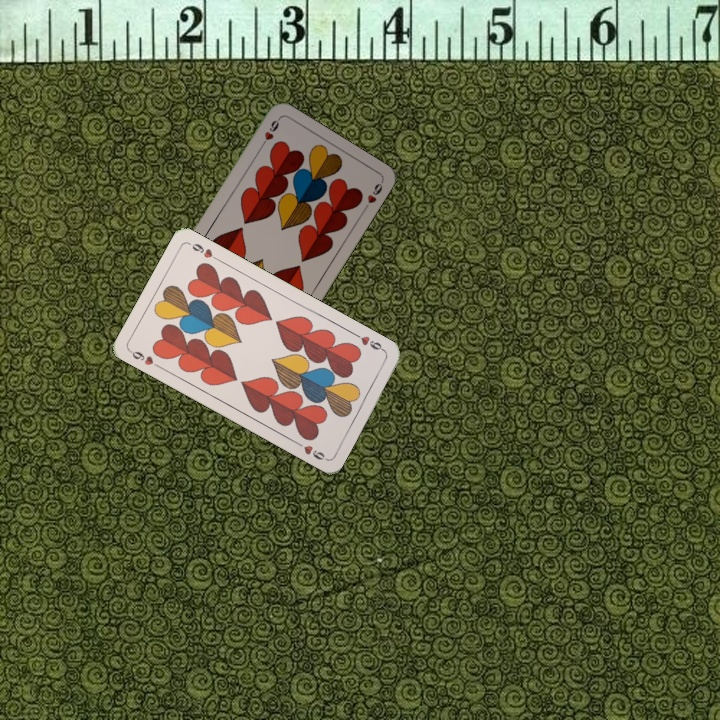H9: (256, 115, 282, 151), (126, 346, 163, 371), (351, 329, 388, 354)
